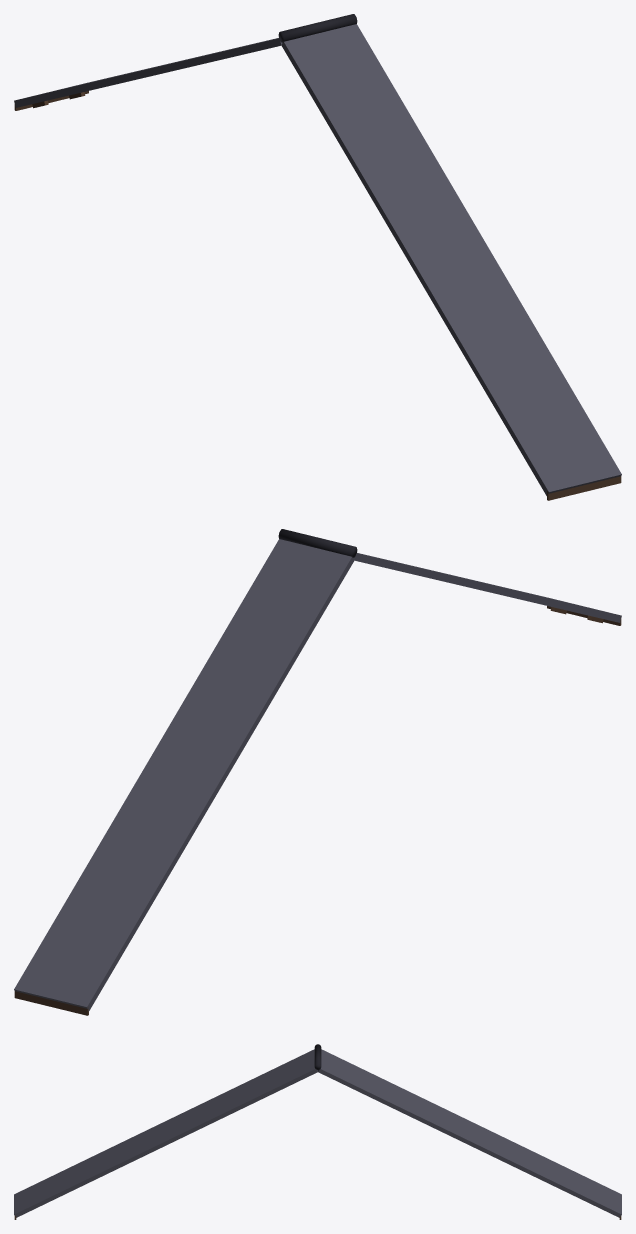
File: kit_stone_slate_w12.glb
The picture shows the model from 3 angles, top to bottom: view 1: azimuth 30°, elevation 25°; view 2: azimuth 150°, elevation 25°; view 3: azimuth 270°, elevation 25°; orthographic projection. The views are drawn at different scales.
Visible parts, largest first — view 1: kit_stone_slate_w12; view 2: kit_stone_slate_w12; view 3: kit_stone_slate_w12.
Boxes of the visible parts, x1,y1,x2,y2 form: kit_stone_slate_w12: (14, 14, 621, 500); kit_stone_slate_w12: (14, 529, 621, 1015); kit_stone_slate_w12: (14, 1044, 621, 1219).
Bounding box in the file's own units: 1 × 3.59 × 12.68.
